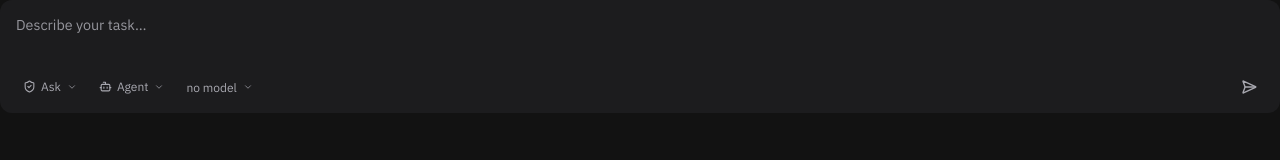
Test: slash commands › Tab completes the name and leaves room for arguments
Type "/co" into the text box at (640, 38), box [16,14,1264,62]
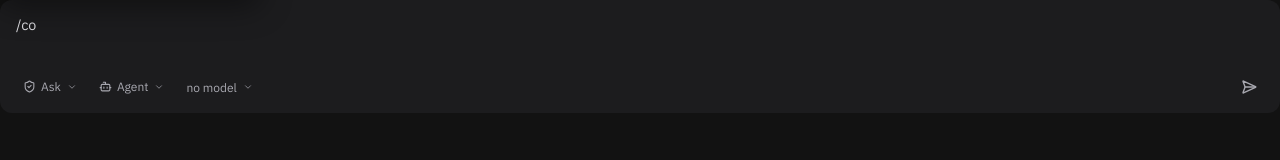
Press Tab in the text box, box [16,14,1264,62]
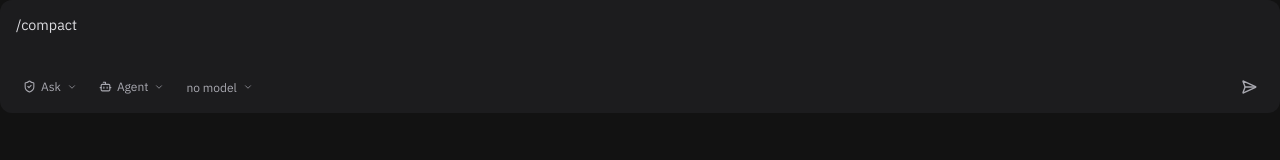
expect the text box holds "/compact ": met, box [16,14,1264,62]
